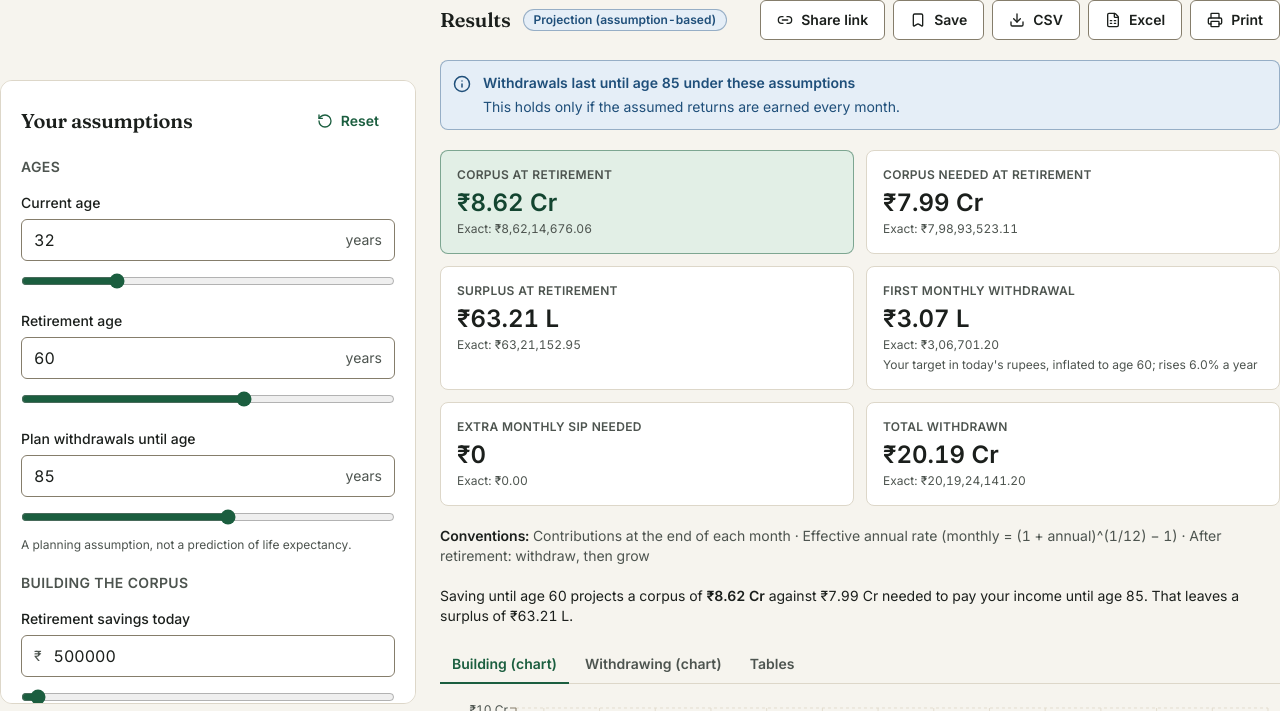
Scenario: Retirement planner › shows the engine error when retirement age is not after current age
Replace the text in the field labelled "Retirement age" with "30" at (184, 358), box [22,338,346,378]
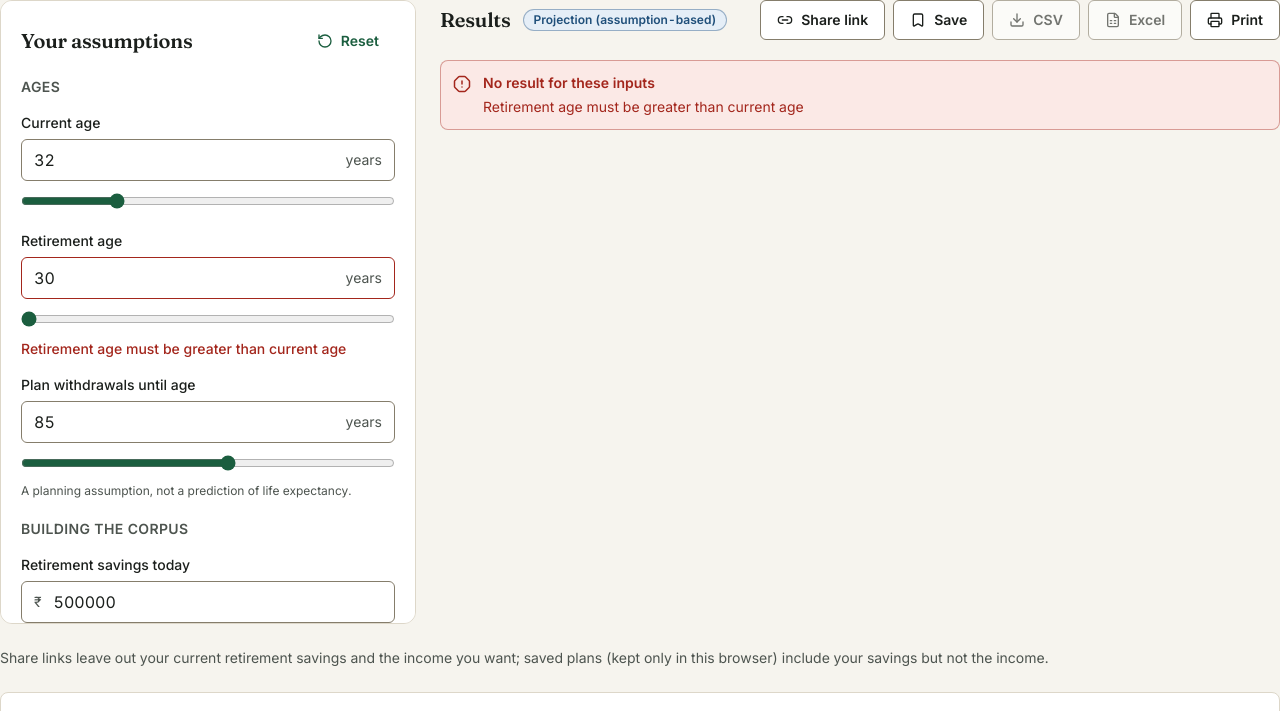
expect the text "Retirement age must be greater than current age" below "Ages" is shown: met, box [21,340,346,357]
expect the element with test id "kpi-corpus" is gone: met
